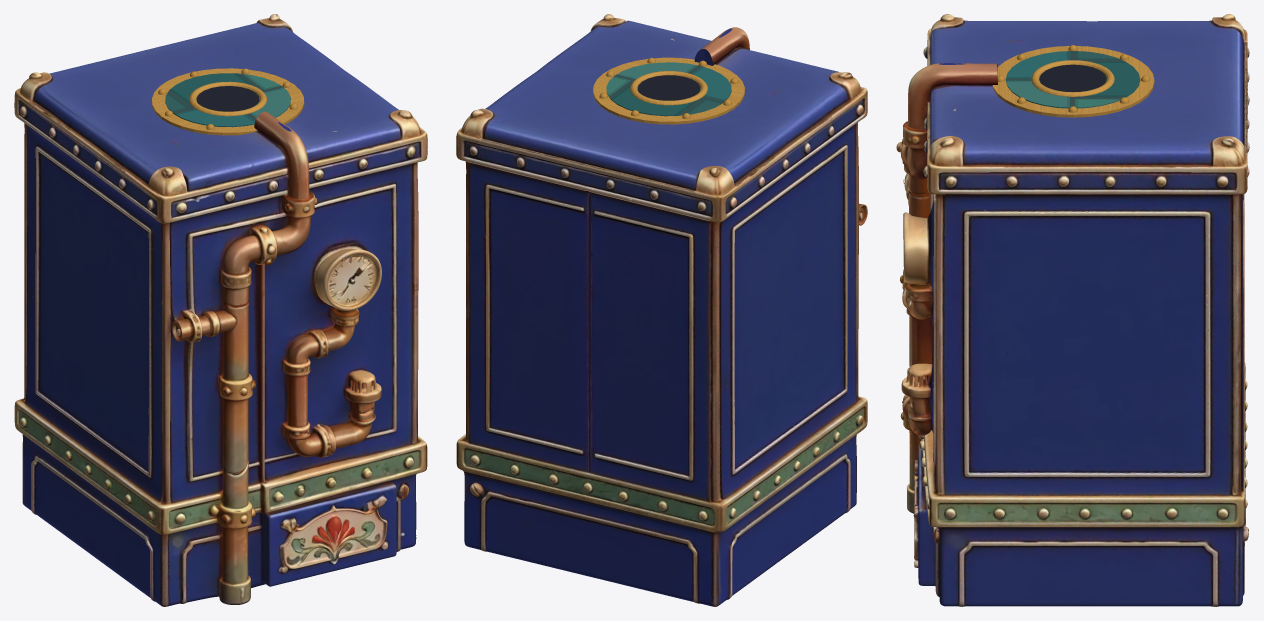
File: act2_tower_body_clean.glb
3 views of the same model, side by side, from view 1: azimuth 30°, elevation 25°; view 2: azimuth 150°, elevation 25°; view 3: azimuth 270°, elevation 25° (orthographic). The views are drawn at different scales.
Visible parts, largest first — view 1: RODIN_TowerBody_Clean, SM_Tower_Turntable; view 2: RODIN_TowerBody_Clean, SM_Tower_Turntable; view 3: RODIN_TowerBody_Clean, SM_Tower_Turntable.
Boxes of the visible parts, x1,y1,x2,y2 form: RODIN_TowerBody_Clean: (14,14,427,606); SM_Tower_Turntable: (152,68,304,135); RODIN_TowerBody_Clean: (456,14,867,606); SM_Tower_Turntable: (593,57,744,124); RODIN_TowerBody_Clean: (896,14,1249,606); SM_Tower_Turntable: (992,45,1154,117).
Size of the model in its own units: 0.6437 by 1 by 0.6714.
4 materials, 3 textured.
